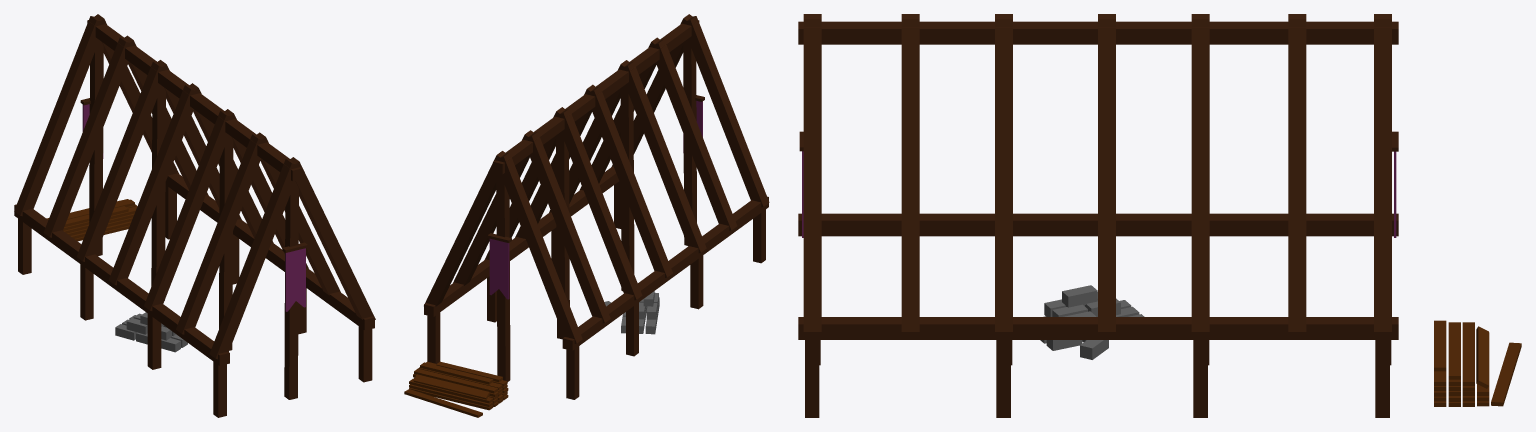
Rendered from EstateBuildPhase2v1.fbx.
3 views of the same model, side by side, from view 1: azimuth 30°, elevation 25°; view 2: azimuth 150°, elevation 25°; view 3: azimuth 270°, elevation 25° (orthographic). The views are drawn at different scales.
Parts seen in each view (by area): view 1: Cube.671; view 2: Cube.671; view 3: Cube.671.
Boxes of the visible parts, box(x1,y1,x2,y2) form: Cube.671: box(14, 14, 375, 417); Cube.671: box(404, 14, 769, 417); Cube.671: box(798, 14, 1521, 417).
Size of the model in its own units: 126 by 178 by 336.
